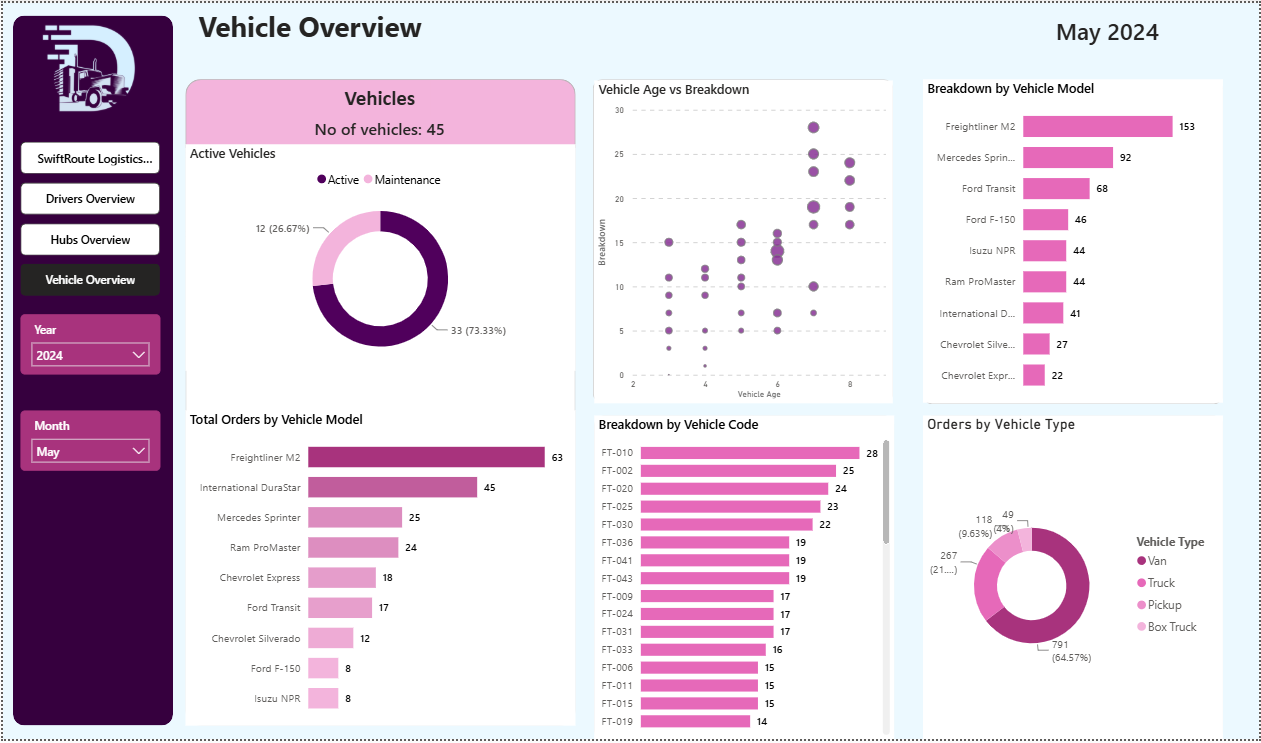

What the dashboard file says about the page in this screenshot:
{"tool":"powerbi","page":{"name":"Vehicle Overview","canvas":[1450,850],"ordinal":3},"visuals":[{"type":"shape","box":[11.5,14.4,184.8,820],"z":0},{"type":"textbox","box":[220.7,0,503.6,60.6],"z":1000},{"type":"slicer","fields":{"Values":["Date Table.Year"]},"box":[20.2,360.1,161.7,70],"z":2000},{"type":"slicer","fields":{"Values":["Date Table.Month"]},"box":[20.2,470.4,161.7,70],"z":3000},{"type":"image","box":[23.3,14,153.9,130.6],"z":4000},{"type":"cardVisual","fields":{"Data":["Orders.Year Month Title"]},"box":[1142.5,0,267.4,60.6],"z":5000},{"type":"shape","box":[681.4,88.1,346.5,373.9],"z":6000},{"type":"shape","box":[210.8,88.1,450.4,746.4],"z":7000},{"type":"shape","box":[210.8,88.1,450.4,79.4],"z":8000},{"type":"cardVisual","fields":{"Data":["Vehicles.No of Vehicles"]},"box":[334.9,103.9,200.7,80.8],"z":9000},{"type":"textbox","box":[376.8,89.5,116.9,40.4],"z":10000},{"type":"donutChart","title":"Active Vehicles","fields":{"Category":["Vehicles.Vehicle Status"],"Y":["CountNonNull(Vehicles.Vehicle ID)"]},"box":[210.8,163.1,450.4,261.3],"z":11000},{"type":"barChart","fields":{"Category":["Vehicles.Vehicle Model"],"Y":["Orders.Total Orders"]},"box":[210.8,470.6,450.4,363.8],"z":12000},{"type":"shape","box":[1062.5,89.5,346.5,373.9],"z":13000},{"type":"scatterChart","title":"Vehicle Age vs Breakdown","fields":{"X":["Vehicles.Vehicle Age"],"Y":["Vehicles.Breakdown"],"Size":["Sum(Vehicles.Breakdown)1"]},"box":[682.8,89.5,345,372.5],"z":14000},{"type":"shape","box":[682.8,476.4,346.5,373.9],"z":15000},{"type":"barChart","title":"Breakdown by Vehicle Code","fields":{"Category":["Vehicles.Vehicle Code"],"Y":["Sum(Vehicles.Breakdown)"]},"box":[682.8,476.4,346.5,373.9],"z":16000},{"type":"barChart","title":"Breakdown by Vehicle Model","fields":{"Y":["Sum(Vehicles.Breakdown)"],"Category":["Vehicles.Vehicle Model"]},"box":[1062.5,88.1,346.5,373.9],"z":17000},{"type":"shape","box":[1062.5,476.4,346.5,373.9],"z":18000},{"type":"donutChart","title":"Orders by Vehicle Type","fields":{"Y":["Orders.Total Orders"],"Category":["Orders.Vehicle Type"]},"box":[1062.5,476.4,346.5,373.9],"z":19000},{"type":"pageNavigator","box":[20.2,160.2,161.7,181.9],"z":20000}]}

Visuals, with their boxes in screenshot pixels (x1, y1, x2, y2), scaled from the page's 1450x850 canvas onto the 1261x743 screenshot:
shape: box(10, 13, 171, 729)
textbox: box(192, 0, 630, 53)
slicer - Date Table.Year: box(18, 315, 158, 376)
slicer - Date Table.Month: box(18, 411, 158, 472)
image: box(20, 12, 154, 126)
cardVisual - Orders.Year Month Title: box(994, 0, 1226, 53)
shape: box(593, 77, 894, 404)
shape: box(183, 77, 575, 729)
shape: box(183, 77, 575, 146)
cardVisual - Vehicles.No of Vehicles: box(291, 91, 466, 161)
textbox: box(328, 78, 429, 114)
"Active Vehicles" donutChart: box(183, 143, 575, 371)
barChart - Vehicles.Vehicle Model x Orders.Total Orders: box(183, 411, 575, 729)
shape: box(924, 78, 1225, 405)
"Vehicle Age vs Breakdown" scatterChart: box(594, 78, 894, 404)
shape: box(594, 416, 895, 742)
"Breakdown by Vehicle Code" barChart: box(594, 416, 895, 742)
"Breakdown by Vehicle Model" barChart: box(924, 77, 1225, 404)
shape: box(924, 416, 1225, 742)
"Orders by Vehicle Type" donutChart: box(924, 416, 1225, 742)
pageNavigator: box(18, 140, 158, 299)
